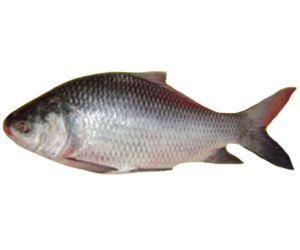Indian Carp: (3, 66, 295, 177)
